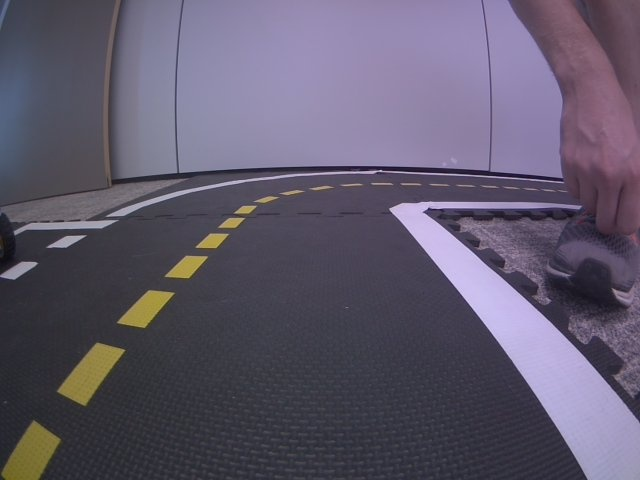Bot: (0, 211, 15, 268)
occupiedSlot: (0, 219, 116, 284)
